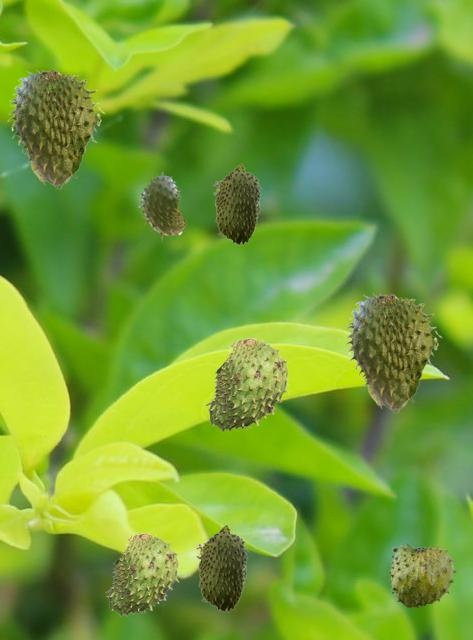guyabano: (7, 69, 104, 188), (344, 293, 441, 412), (205, 338, 288, 431), (105, 533, 178, 615), (196, 524, 248, 611), (388, 542, 456, 607), (213, 163, 261, 244), (138, 172, 186, 240)
